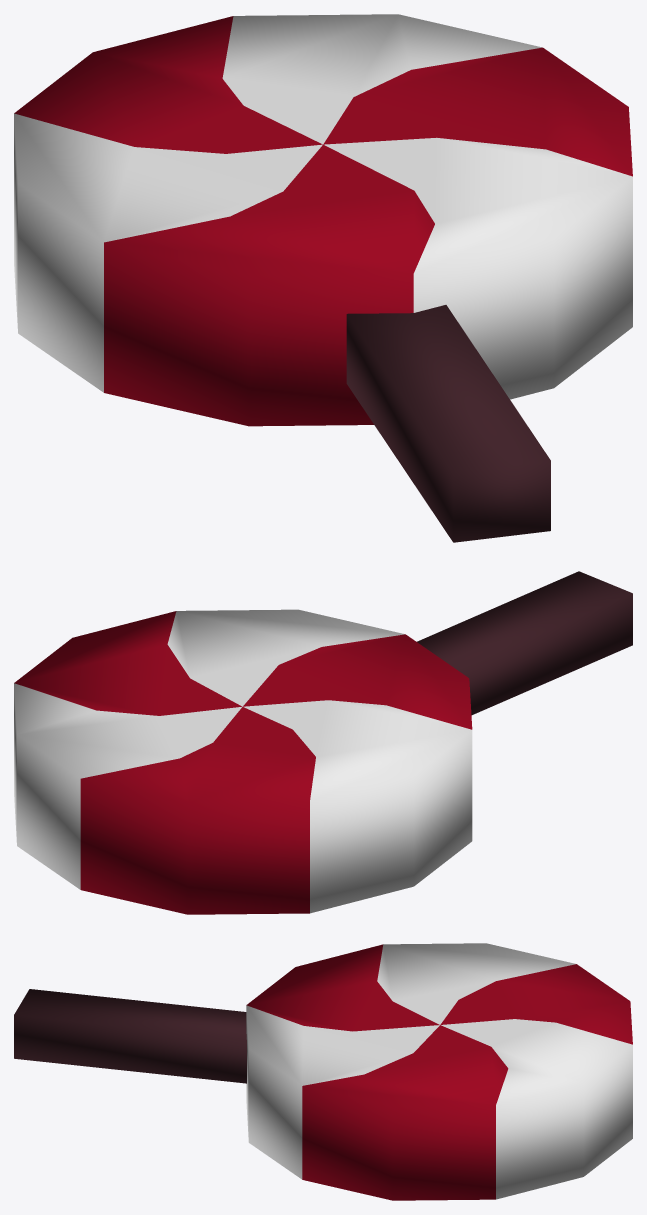
Rendered from candy2.glb.
The picture shows the model from 3 angles, top to bottom: view 1: azimuth 30°, elevation 25°; view 2: azimuth 150°, elevation 25°; view 3: azimuth 270°, elevation 25°; orthographic projection. The views are drawn at different scales.
Visible parts, largest first — view 1: Circle.043, Cube.007; view 2: Circle.043, Cube.007; view 3: Circle.043, Cube.007.
Boxes of the visible parts, x1,y1,x2,y2 form: Circle.043: (14,14,632,426); Cube.007: (346,305,550,542); Circle.043: (14,609,472,914); Cube.007: (417,571,632,715); Circle.043: (246,943,632,1200); Cube.007: (14,989,246,1083).
Bounding box in the file's own units: 0.886 × 0.2377 × 1.42.
